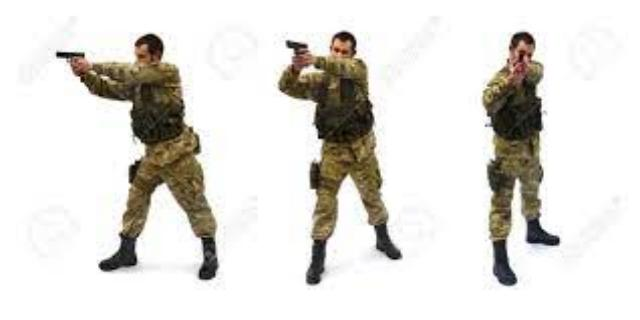other: (482, 27, 548, 284), (306, 32, 378, 235), (124, 35, 196, 232)
